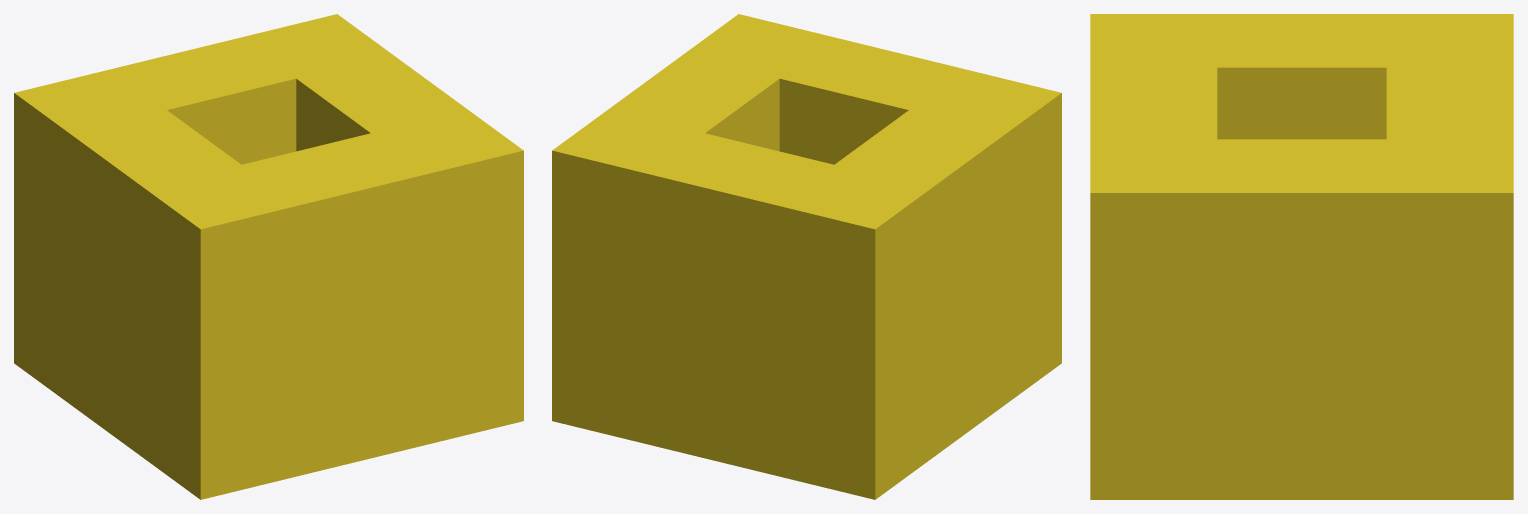
File: insert_task_block4.dae
3 renders of one model, left to right at view 1: azimuth 30°, elevation 25°; view 2: azimuth 150°, elevation 25°; view 3: azimuth 270°, elevation 25°, orthographic. The views are drawn at different scales.
Parts seen in each view (by area): view 1: Cube_001; view 2: Cube_001; view 3: Cube_001.
Part boxes in pixels (<box>): Cube_001: <box>14,14,523,499</box>; Cube_001: <box>552,14,1061,499</box>; Cube_001: <box>1090,14,1513,499</box>.
Size of the model in its own units: 0.1 by 0.1 by 0.08.
